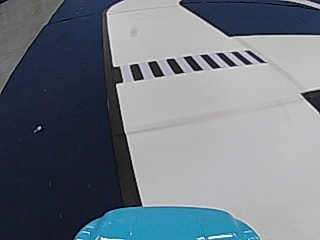CrossWalk: (118, 48, 262, 79)
